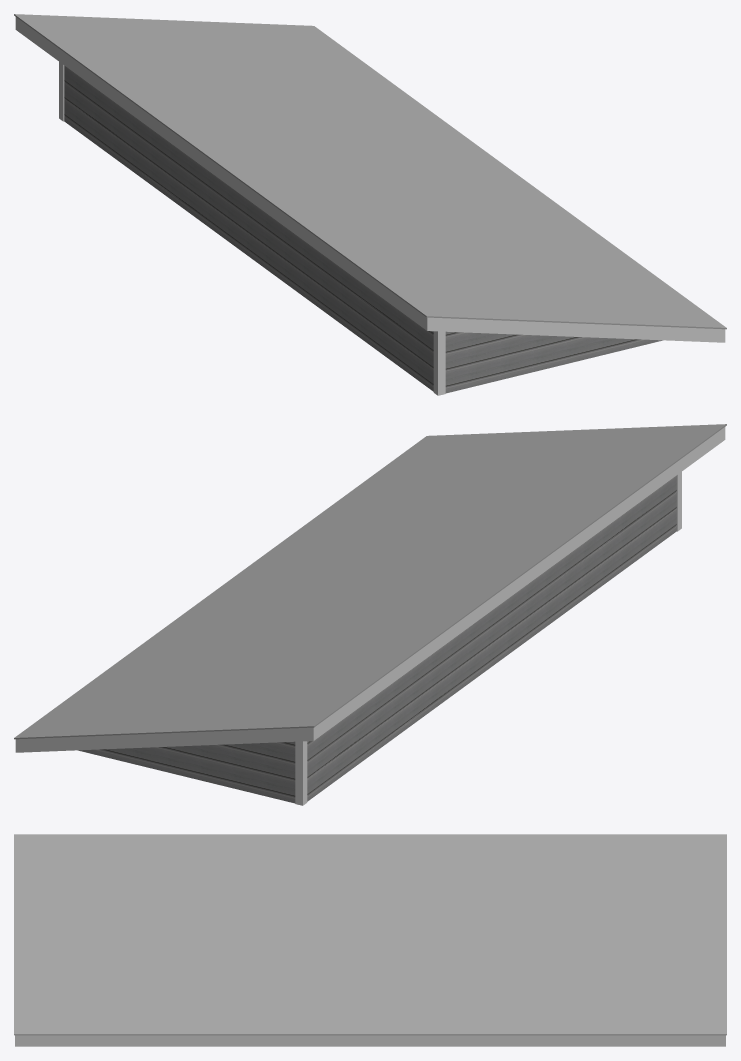
Rendered from slant.glb.
The picture shows the model from 3 angles, top to bottom: view 1: azimuth 30°, elevation 25°; view 2: azimuth 150°, elevation 25°; view 3: azimuth 270°, elevation 25°; orthographic projection. The views are drawn at different scales.
Visible parts, largest first — view 1: Roof_Top.001, Roof_exterior.001, Roof_Siding.001, Trims; view 2: Roof_Top.001, Roof_exterior.001, Roof_Siding.001, Trims; view 3: Roof_Top.001, Roof_Siding.001.
Boxes of the visible parts, box(x1,y1,x2,y2) form: Roof_Top.001: box(14, 14, 726, 329); Roof_exterior.001: box(64, 65, 662, 393); Roof_Siding.001: box(15, 17, 725, 342); Trims: box(59, 62, 445, 395); Roof_Top.001: box(14, 424, 726, 739); Roof_exterior.001: box(78, 475, 676, 803); Roof_Siding.001: box(15, 427, 725, 752); Trims: box(295, 472, 681, 805); Roof_Top.001: box(14, 834, 726, 1035); Roof_Siding.001: box(15, 1035, 725, 1046).
Bounding box in the file's own units: 4.57 × 1.45 × 10.87.
Materials: 7 (2 with a texture image).
